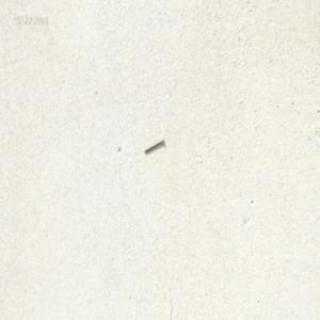Bolttrack_idkeyframe: (142, 136, 163, 153)
